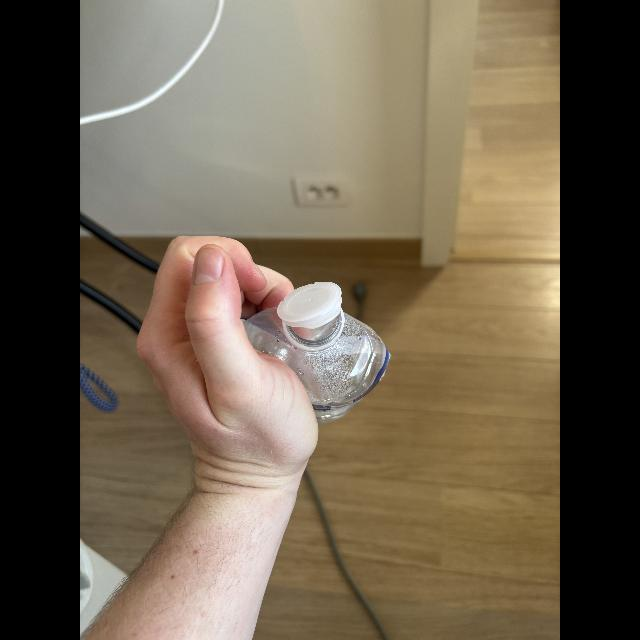Plastic: (230, 275, 394, 423)
